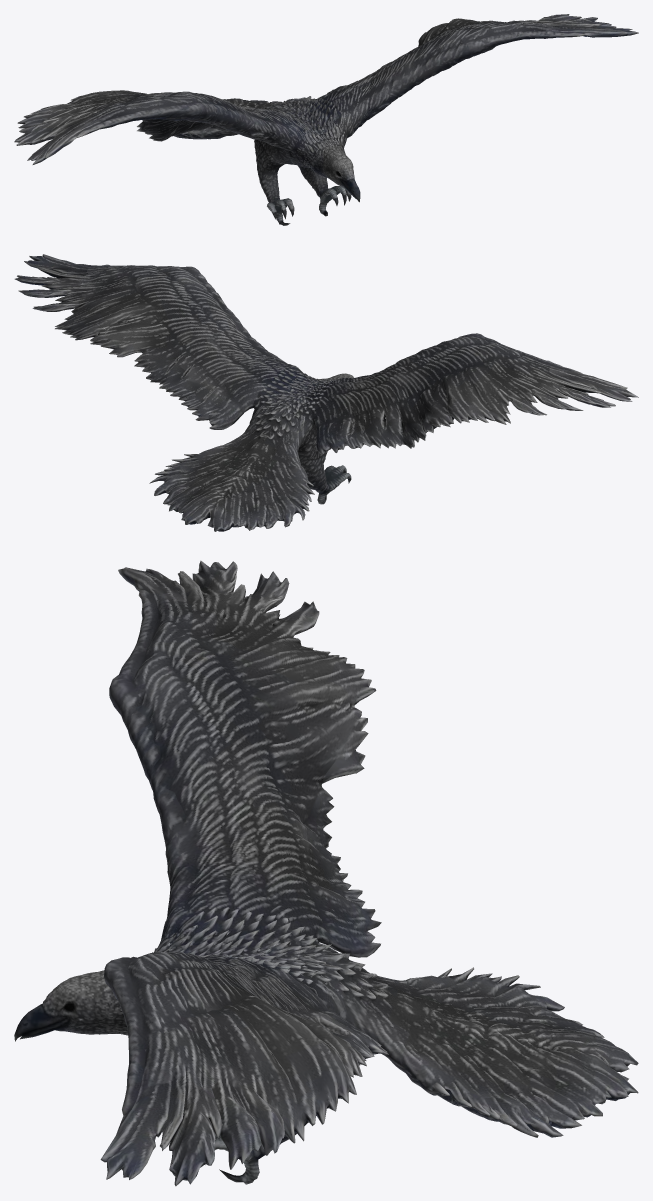
File: MZ4250 - Raven.glb
3 renders of one model, top to bottom at view 1: azimuth 30°, elevation 25°; view 2: azimuth 150°, elevation 25°; view 3: azimuth 270°, elevation 25°, orthographic. The views are drawn at different scales.
Parts seen in each view (by area): view 1: Eagel.001; view 2: Eagel.001; view 3: Eagel.001.
Part boxes in pixels (x1,y1,x2,y2): Eagel.001: (14,14,638,225); Eagel.001: (14,254,638,531); Eagel.001: (14,560,638,1186).
Bounding box in the file's own units: 61.73 × 17.38 × 27.71.
Materials: 1 (1 with a texture image).
